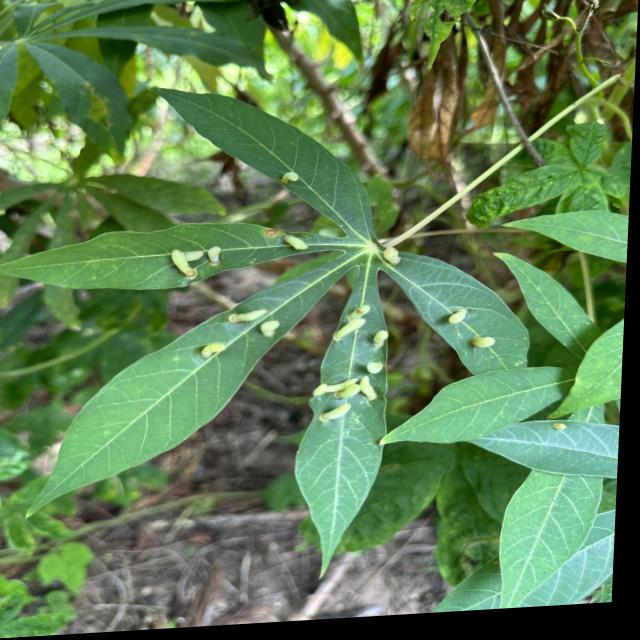Maleza: (496, 138, 640, 211), (0, 508, 84, 632)
Mosca: (309, 376, 381, 427), (222, 299, 281, 341), (168, 240, 225, 283), (356, 325, 393, 382), (328, 301, 369, 341), (194, 337, 235, 368), (281, 221, 312, 256), (437, 302, 467, 332), (377, 242, 408, 266), (467, 332, 499, 354), (276, 161, 298, 182), (553, 416, 570, 437)
